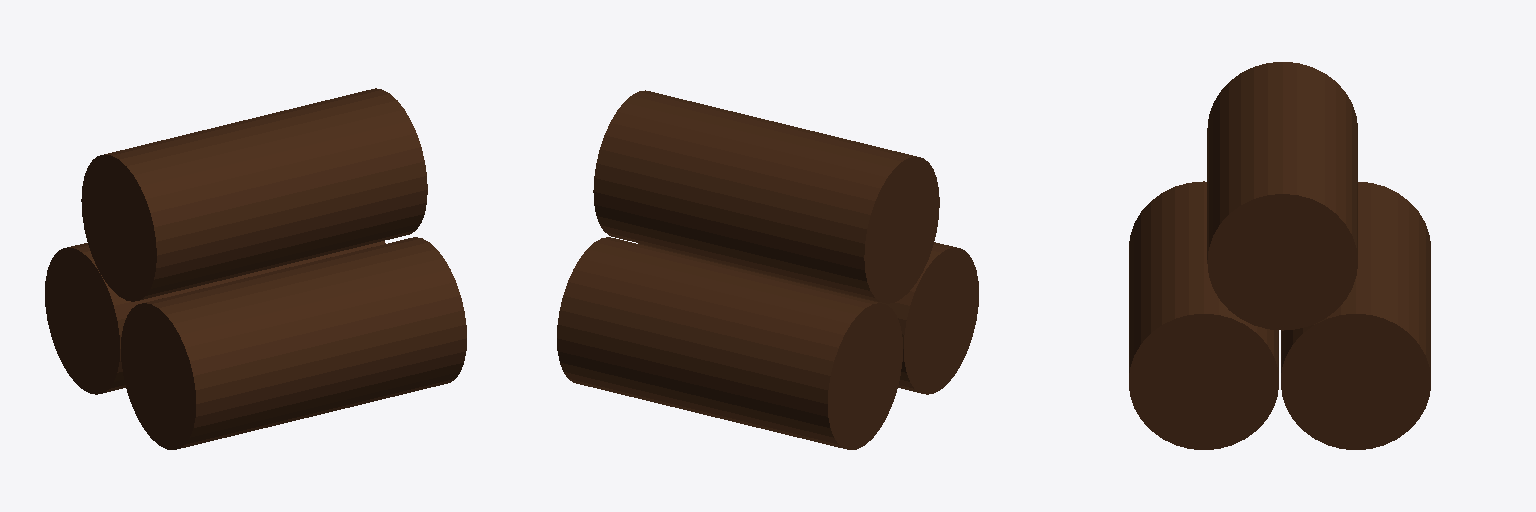
File: log.obj
3 renders of one model, left to right at view 1: azimuth 30°, elevation 25°; view 2: azimuth 150°, elevation 25°; view 3: azimuth 270°, elevation 25°, orthographic.
Visible parts, largest first — view 1: Cylinder.001, Cylinder.002, Cylinder; view 2: Cylinder, Cylinder.002, Cylinder.001; view 3: Cylinder.002, Cylinder.001, Cylinder.
Boxes of the visible parts, x1=… form: Cylinder.001: x1=121, y1=237, x2=466, y2=449; Cylinder.002: x1=81, y1=88, x2=427, y2=301; Cylinder: x1=45, y1=241, x2=385, y2=394; Cylinder: x1=557, y1=237, x2=902, y2=449; Cylinder.002: x1=593, y1=90, x2=939, y2=303; Cylinder.001: x1=638, y1=242, x2=978, y2=394; Cylinder.002: x1=1207, y1=62, x2=1357, y2=330; Cylinder.001: x1=1129, y1=181, x2=1278, y2=449; Cylinder: x1=1281, y1=182, x2=1430, y2=449.
Size of the model in its own units: 0.5424 by 0.4909 by 0.5254.